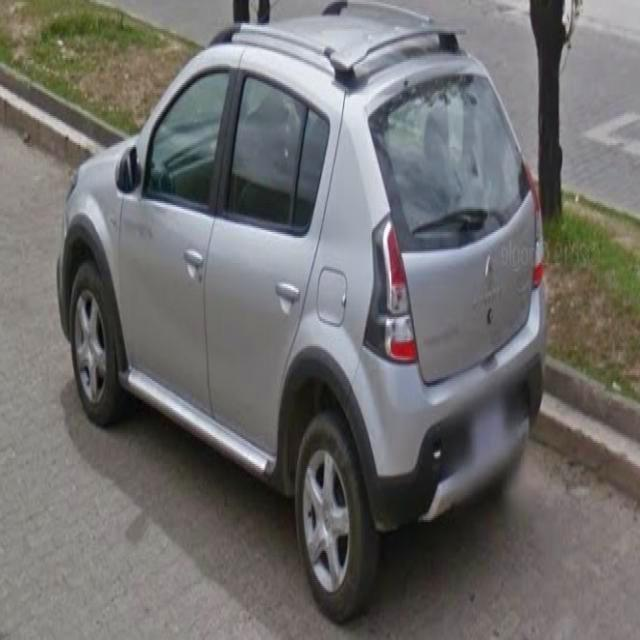Car: (54, 8, 548, 620)
